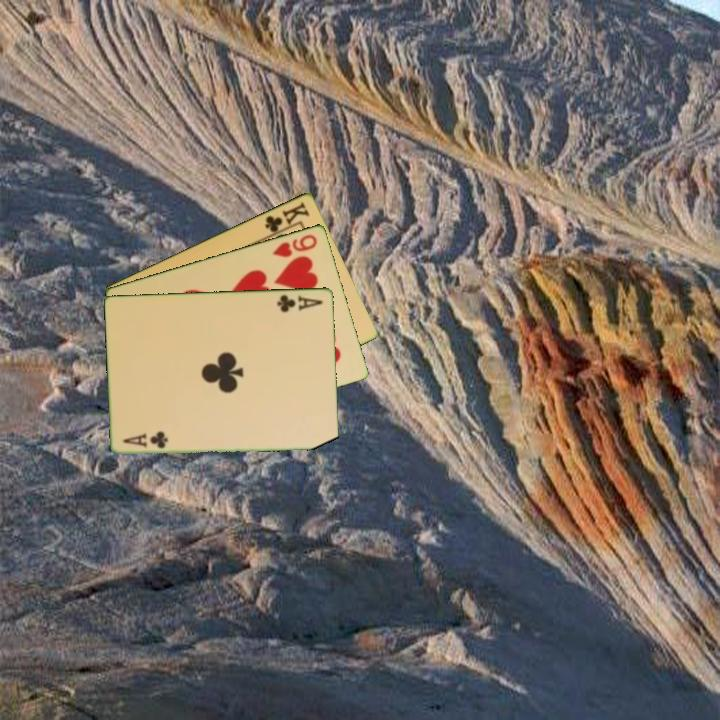9h: (269, 230, 320, 260)
Ac: (274, 291, 326, 315), (119, 428, 171, 451)
Kc: (262, 198, 313, 239)
